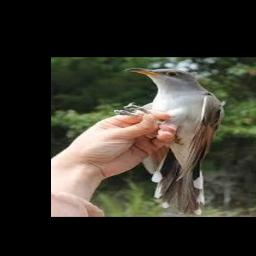Cuckoo: (117, 68, 225, 215)
